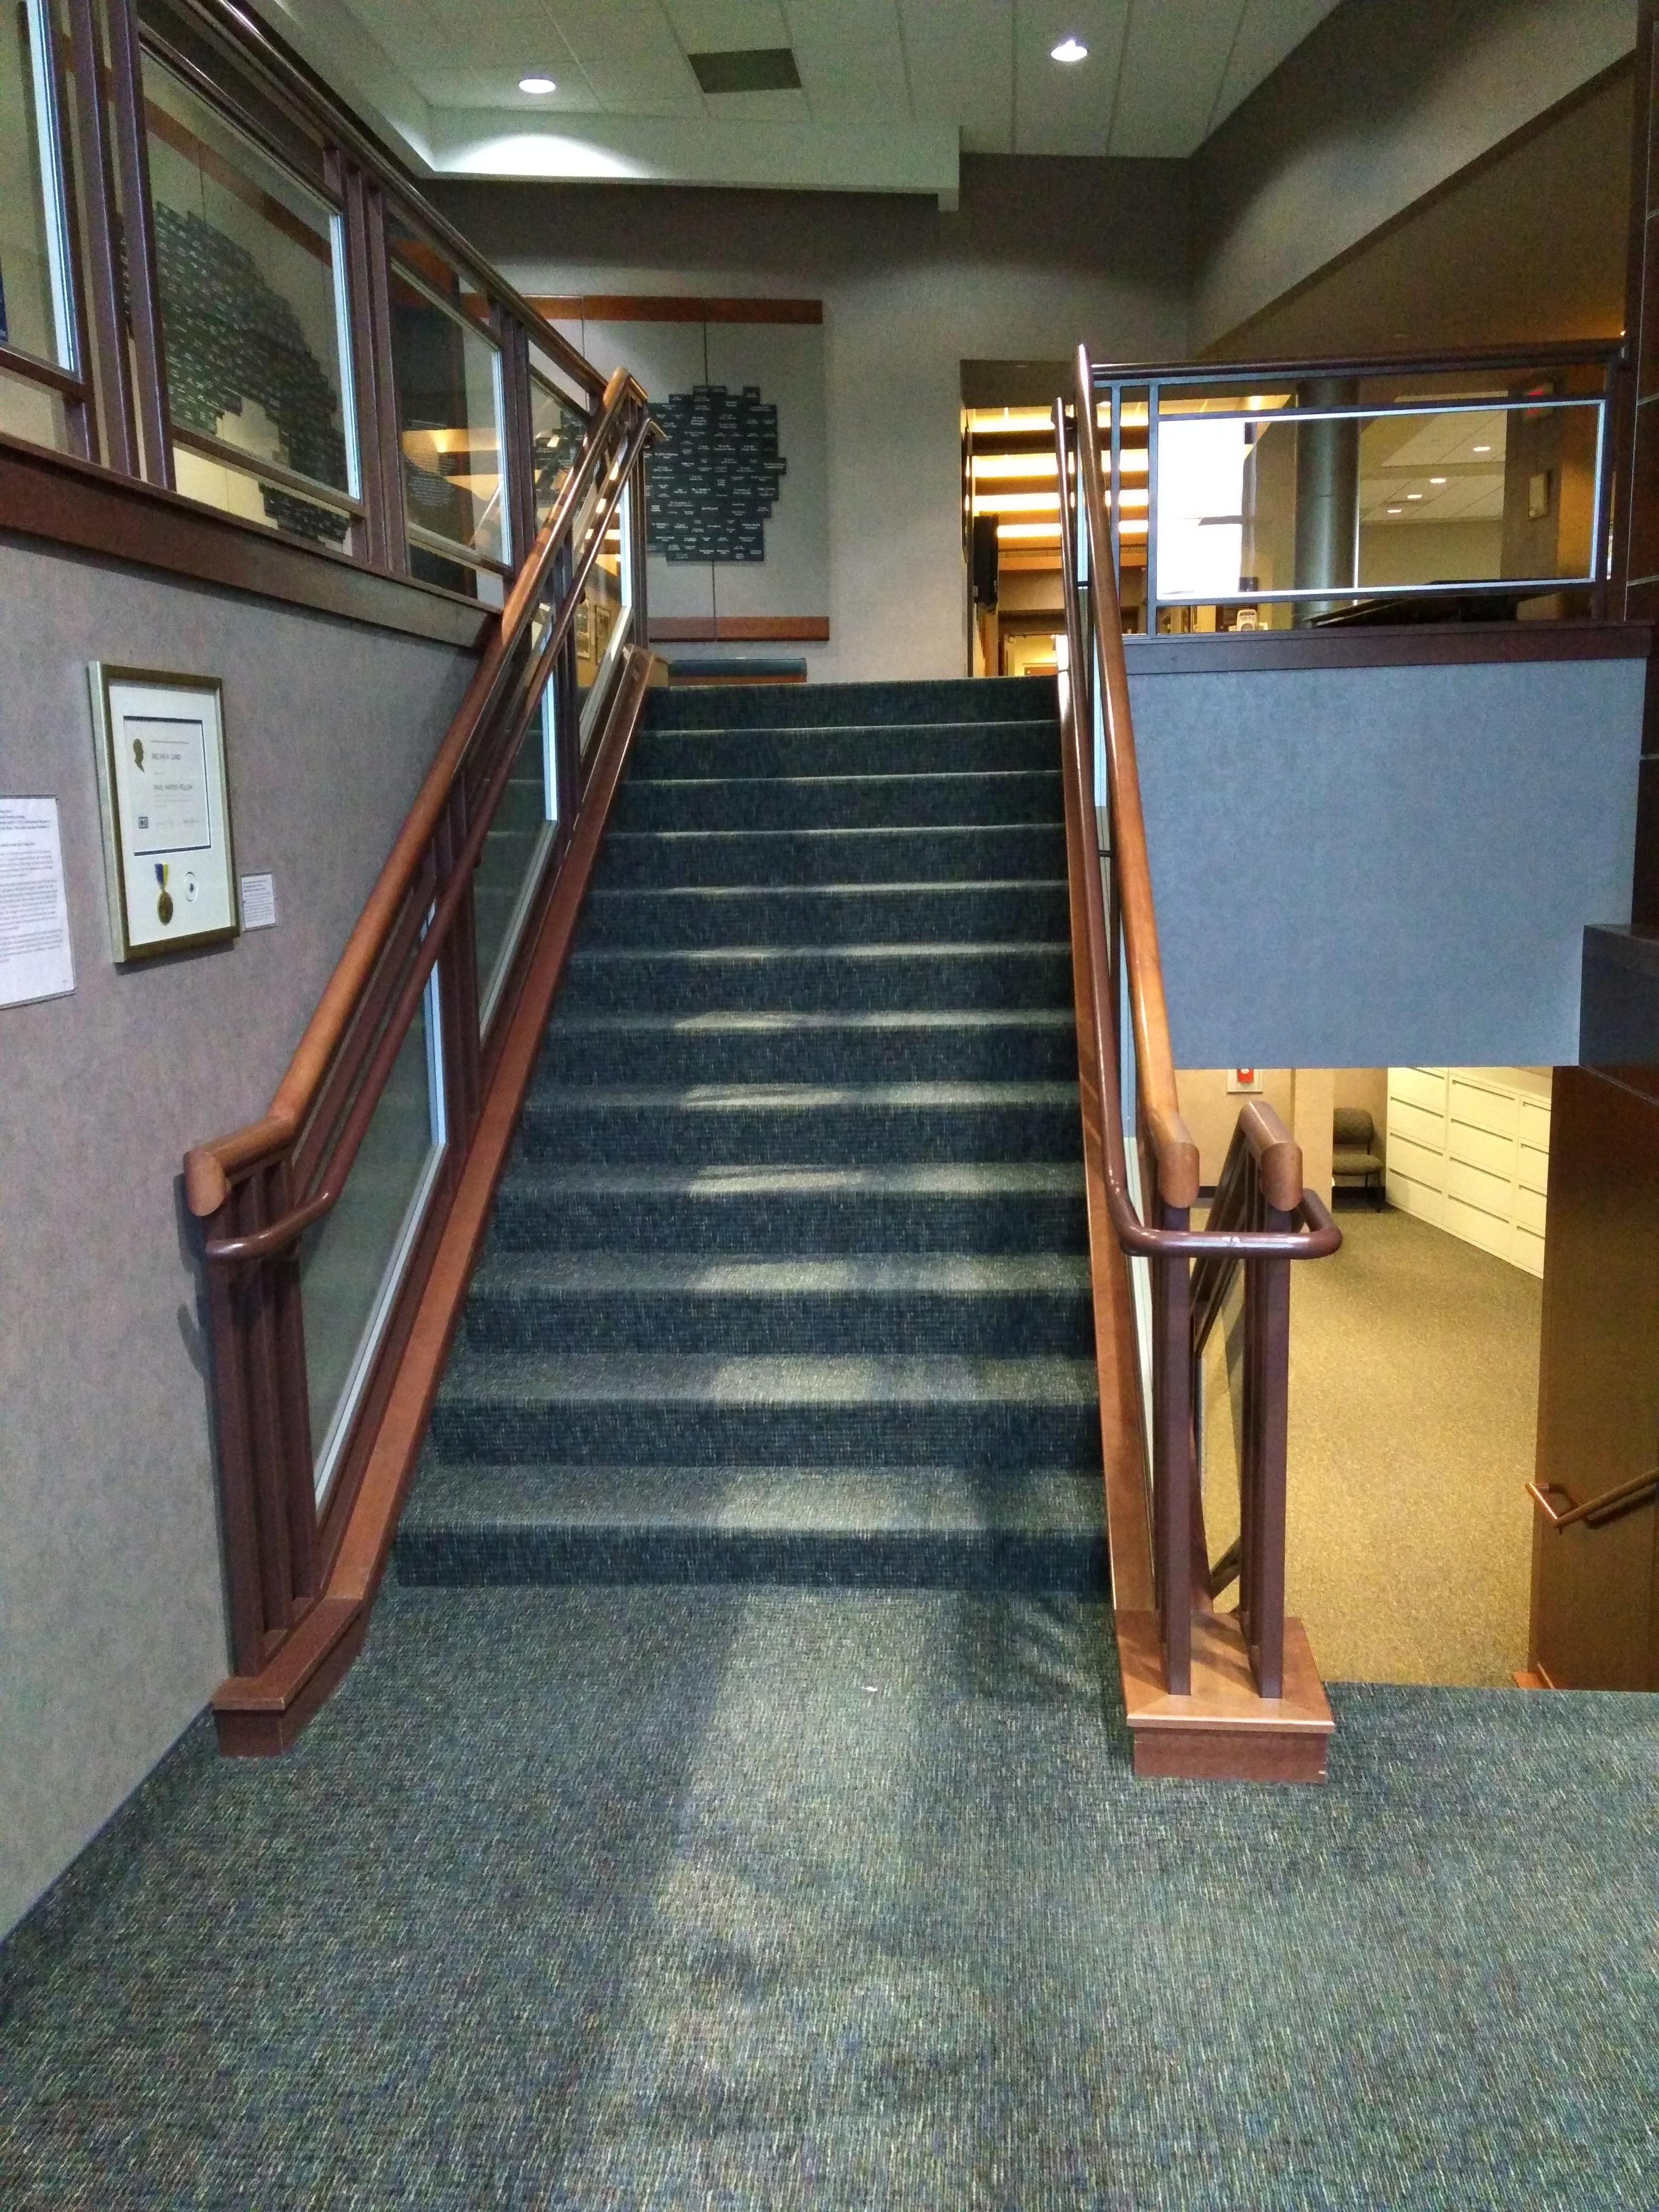stairs_up: (401, 669, 1108, 1625)
